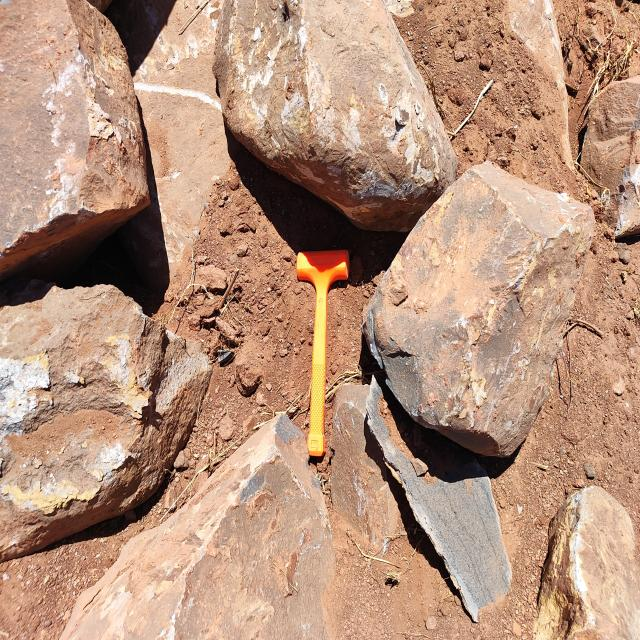Orange_hammer: (295, 248, 350, 459)
